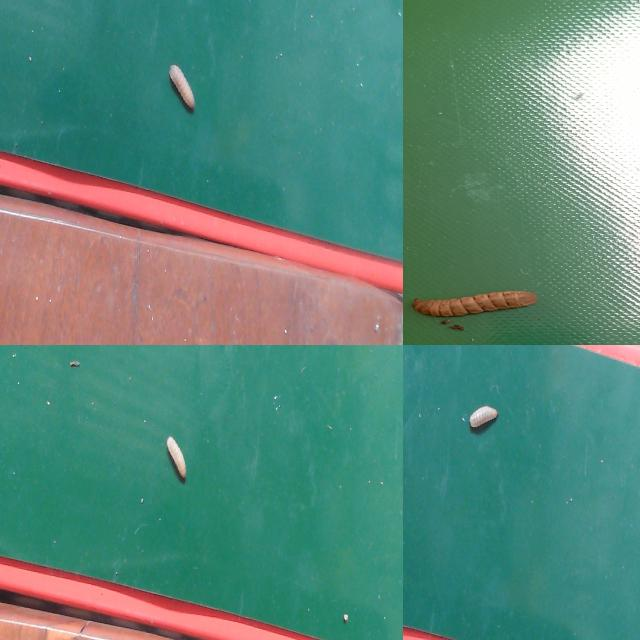Maggot: (411, 291, 538, 322), (168, 65, 197, 116), (165, 439, 188, 485), (466, 404, 500, 435)
